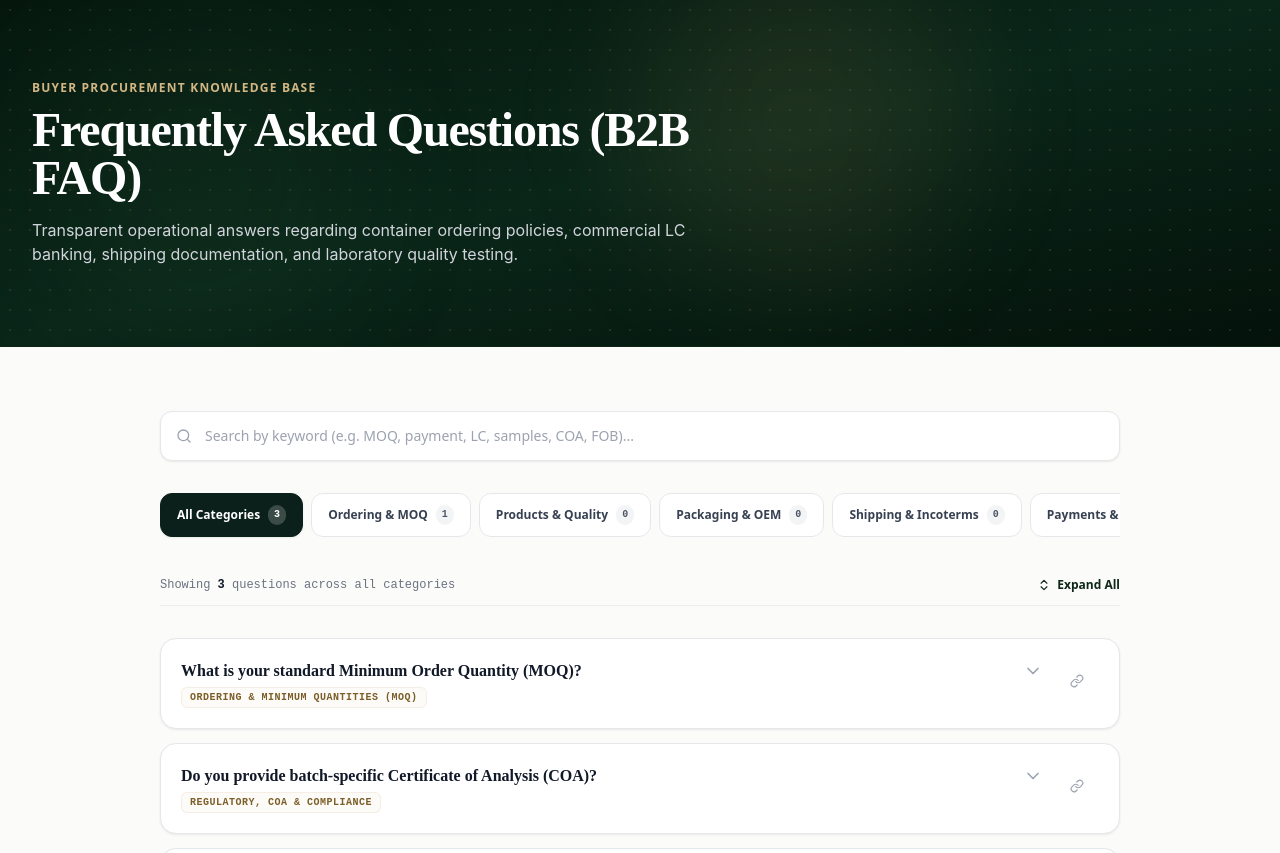
Scenario: UI Component: FaqPage Suite › filters questions accurately when searching by keyword
Replace the text in the field with placeholder "Search by keyword" with "COA" at [640, 436], box [160,411,1120,461]
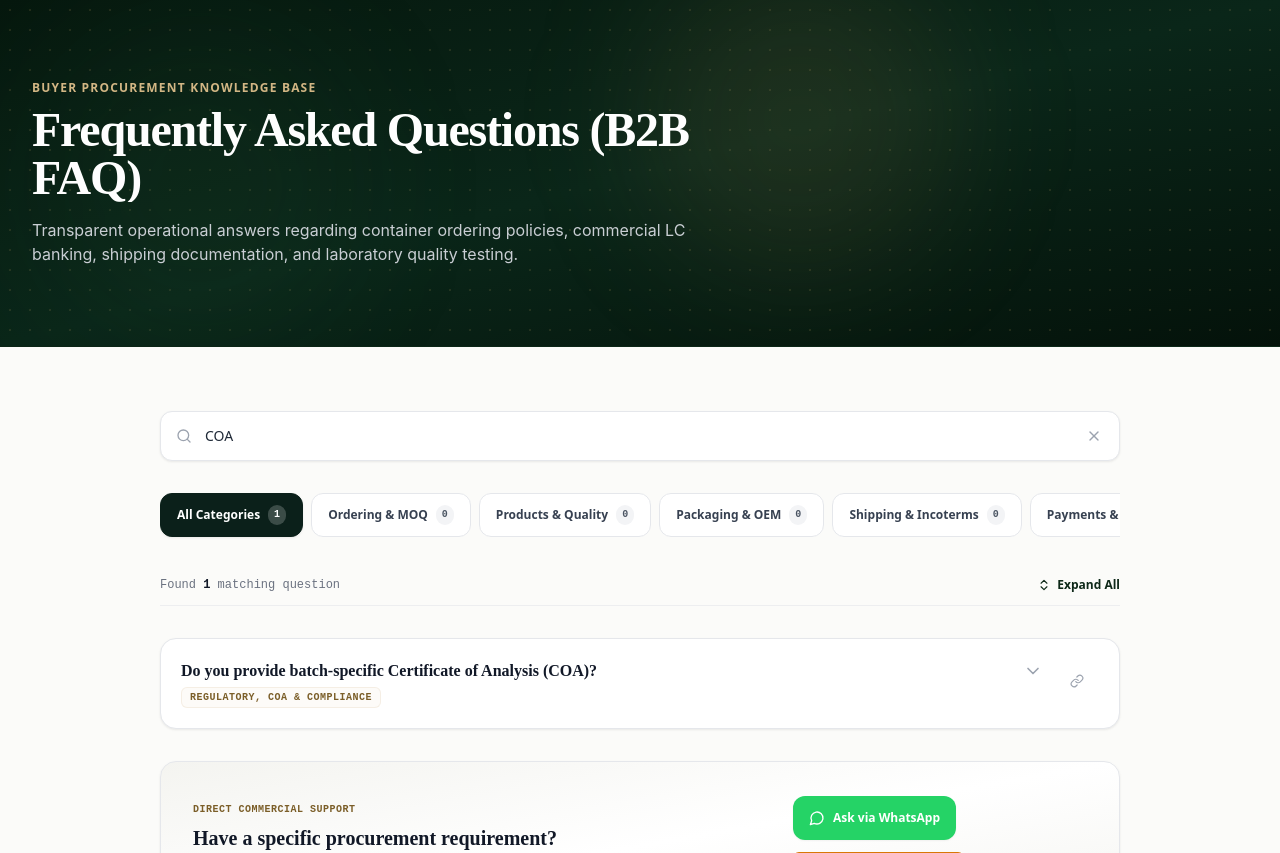
Check: the text "Do you provide batch-specific Certificate of Analysis (COA)?" is shown, box [181,659,597,683]
Check: the button "What is your standard Minimum Order Quantity (MOQ)?" is gone
